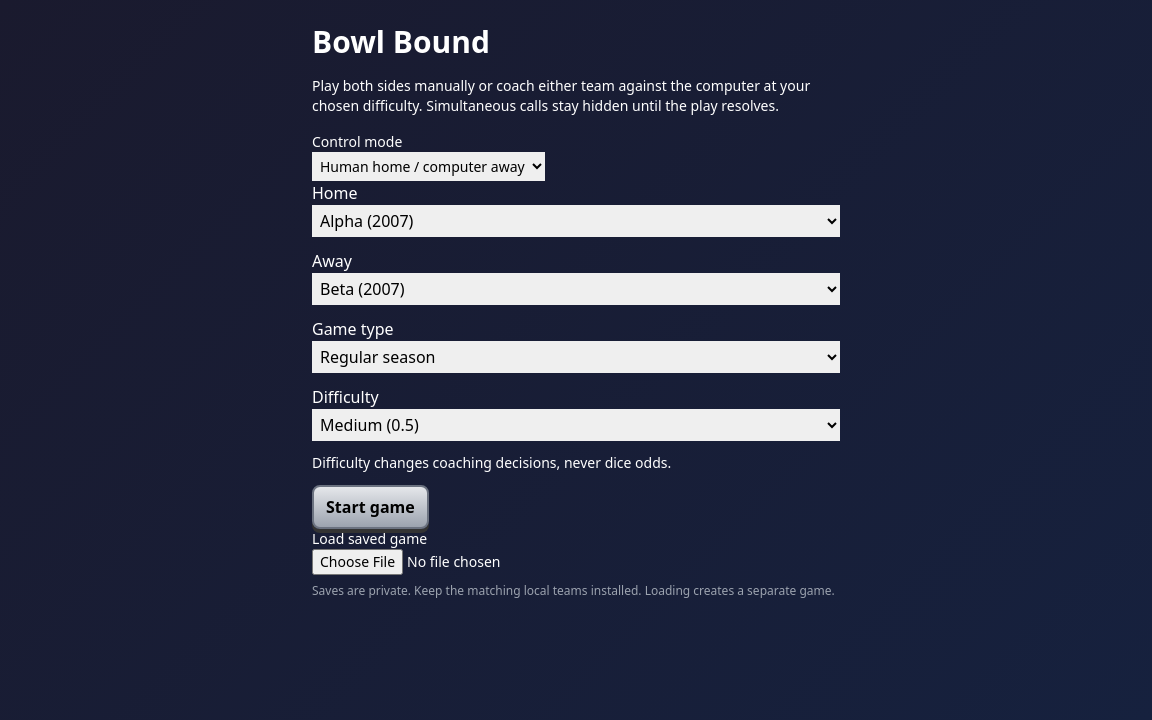
Test case: advances a computer-owned toss without exposing its decision controls
expect the button with test id "start-game" is shown: met, box 312,485 -> 429,529
Select "Human home / computer away" in the dropdown labelled "Control mode": point(428, 166) 312,152 -> 545,181
Click the button with test id "start-game": point(370, 507) 312,485 -> 429,529
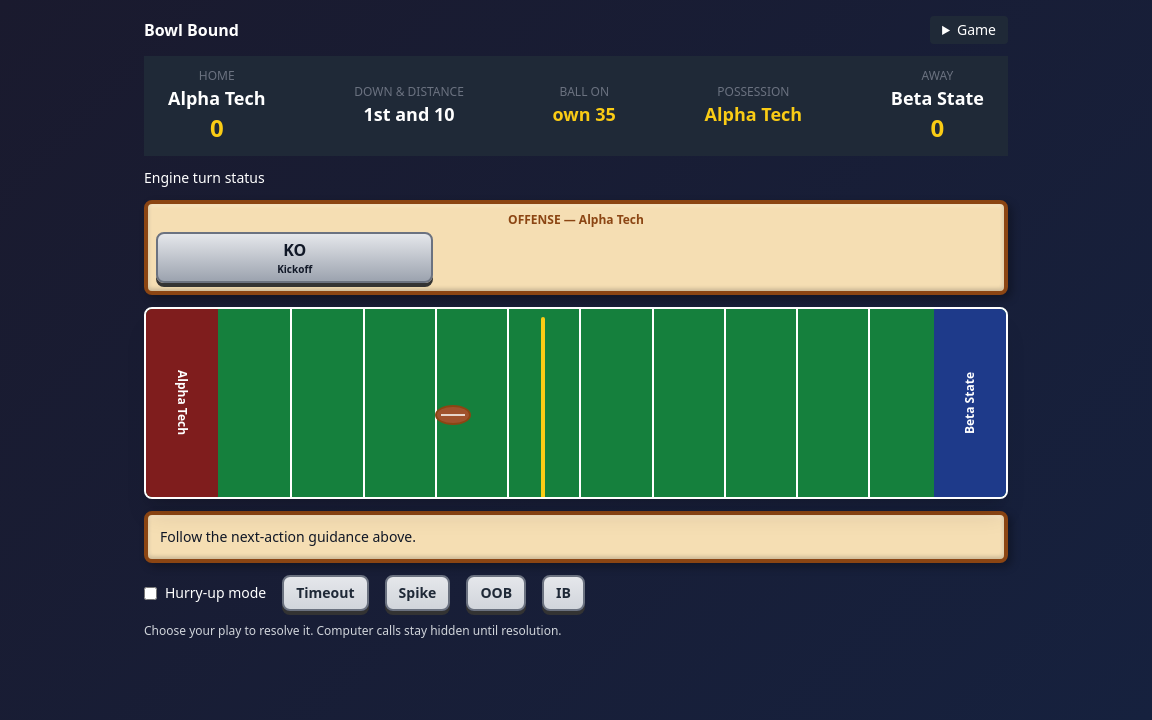
expect the element with test id "playing-screen" is shown: met
expect the button with test id "special-play-kickoff" is shown: met, box 156,232 -> 433,283
